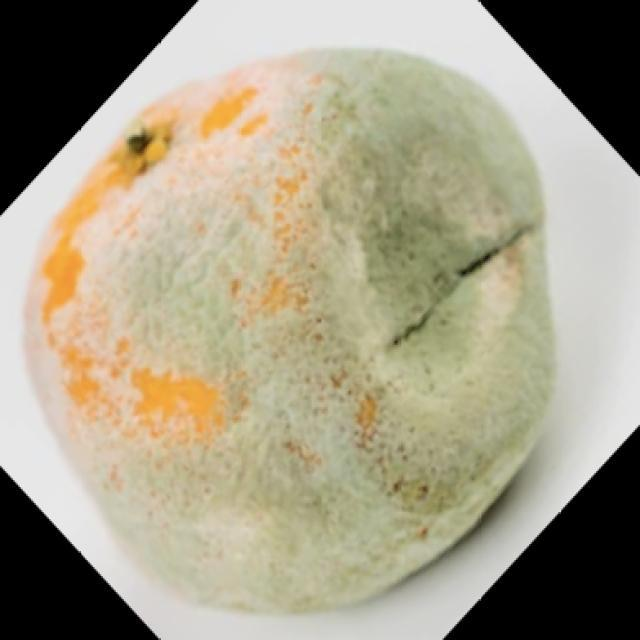sangat-busuk: (26, 50, 552, 613)
